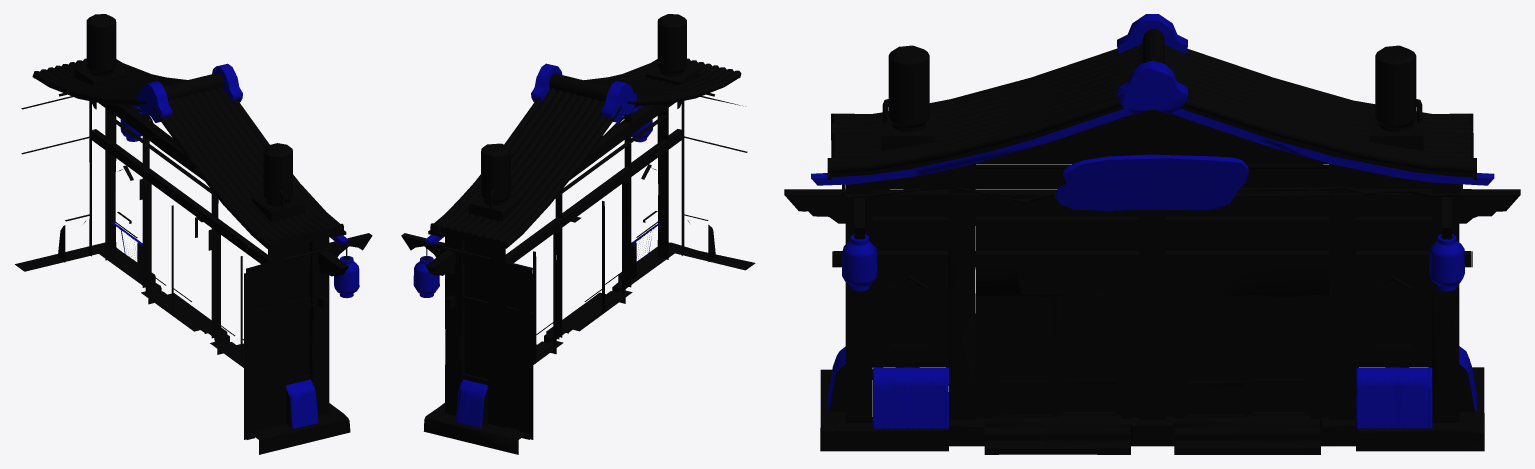
File: SM_ENV_LKNVLD_Hatago_Front_Lod3.gltf
3 views of the same model, side by side, from view 1: azimuth 30°, elevation 25°; view 2: azimuth 150°, elevation 25°; view 3: azimuth 270°, elevation 25° (orthographic). The views are drawn at different scales.
Visible parts, largest first — view 1: SM_ENV_LKNVLD_Hatago_Front_Lod3; view 2: SM_ENV_LKNVLD_Hatago_Front_Lod3; view 3: SM_ENV_LKNVLD_Hatago_Front_Lod3.
Boxes of the visible parts, box(x1,y1,x2,y2) form: SM_ENV_LKNVLD_Hatago_Front_Lod3: box(15, 14, 372, 454); SM_ENV_LKNVLD_Hatago_Front_Lod3: box(401, 14, 755, 454); SM_ENV_LKNVLD_Hatago_Front_Lod3: box(784, 14, 1520, 454).
Size of the model in its own units: 4.7 by 9.42 by 16.34.
